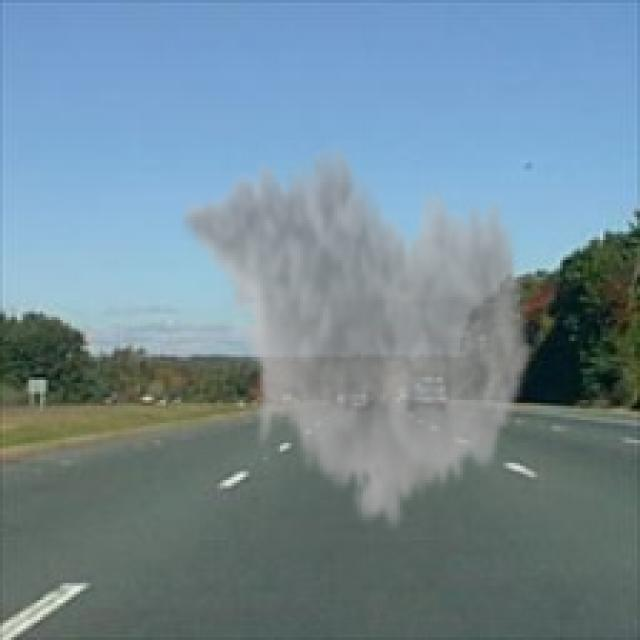smoke: (177, 134, 534, 537)
